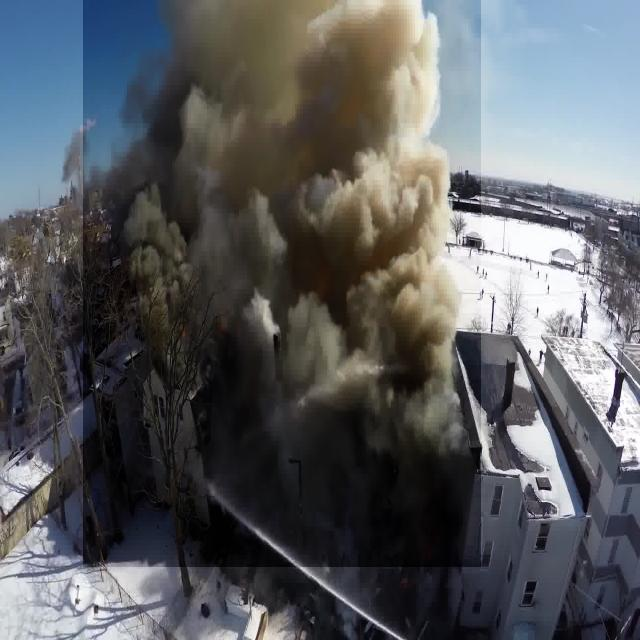Smoke: (84, 0, 482, 567)
